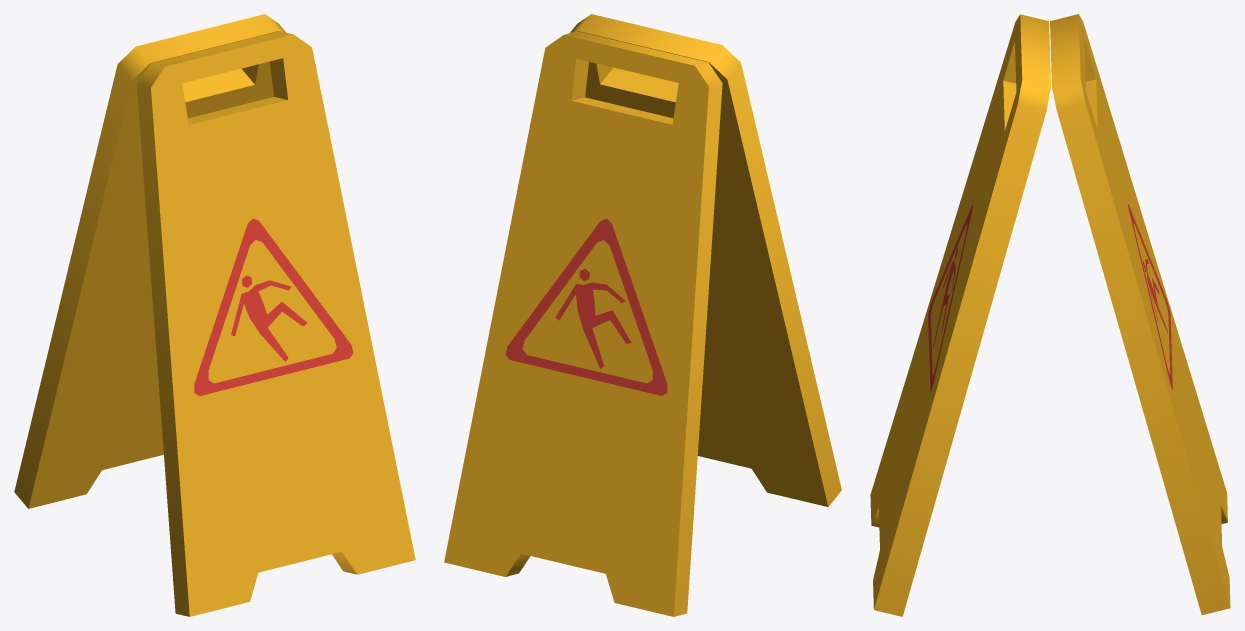
Rendered from floorsign.fbx.
3 views of the same model, side by side, from view 1: azimuth 30°, elevation 25°; view 2: azimuth 150°, elevation 25°; view 3: azimuth 270°, elevation 25° (orthographic). The views are drawn at different scales.
Parts seen in each view (by area): view 1: floorsign; view 2: floorsign; view 3: floorsign.
Boxes of the visible parts, left/top/right/bottom form: floorsign: left=14, top=14, right=415, bottom=616; floorsign: left=444, top=14, right=841, bottom=616; floorsign: left=870, top=14, right=1230, bottom=616.
Size of the model in its own units: 0.9791 by 1.99 by 1.27.
